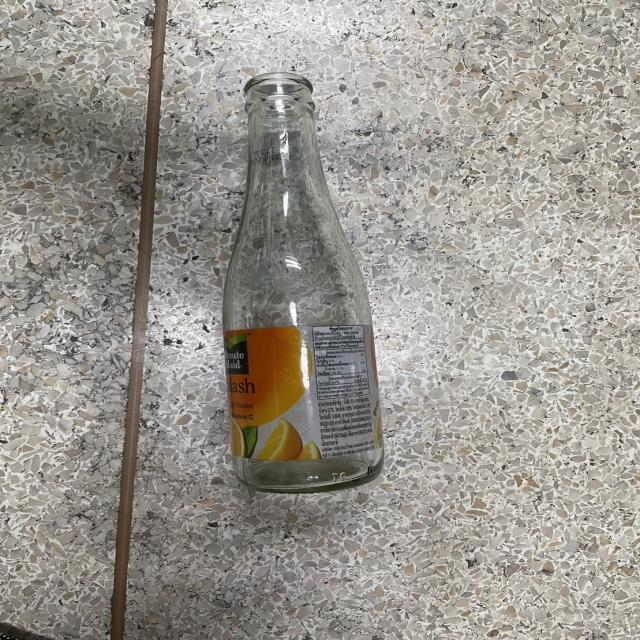glass-bottle: (185, 57, 416, 510)
